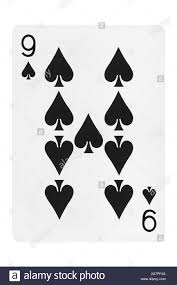nine of spades: (14, 26, 163, 240)
